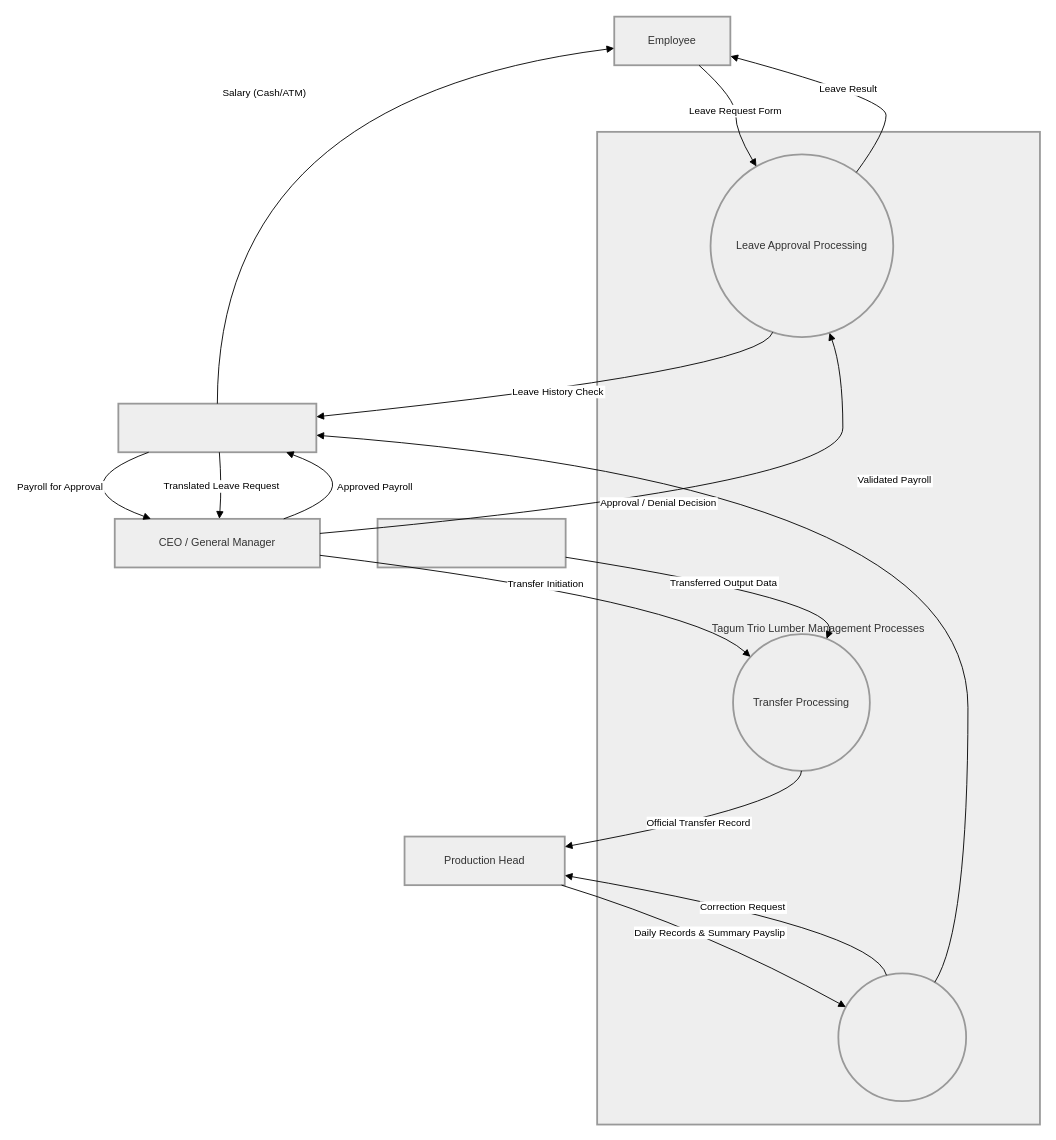
Some shapes in this 1056 by 1140 pixel diagram are drawn without their labels. The shapes that lost their labels are listed below. From the top down, each one's centre as x and y in pixels, then its label:
point 217,427: HR & Accounting Head
point 471,543: Lead Man Production
point 902,1037: Payroll Processing
